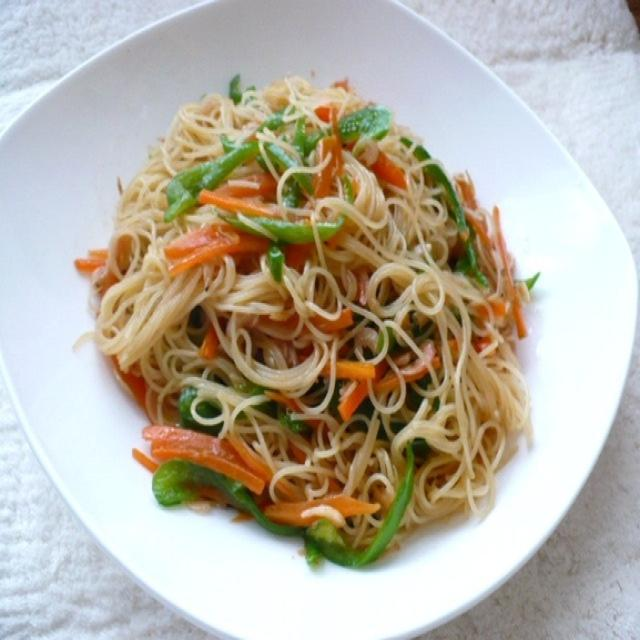鸡蛋料理: (88, 6, 537, 640)
